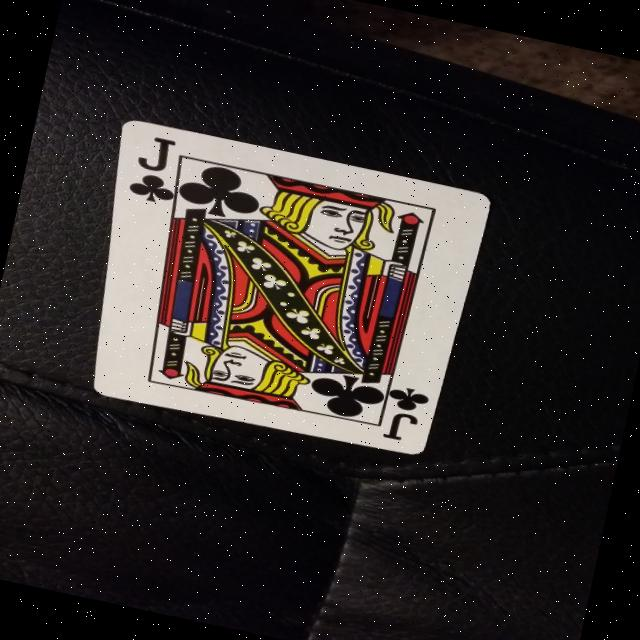Jc: (117, 125, 195, 214), (363, 377, 436, 455)
